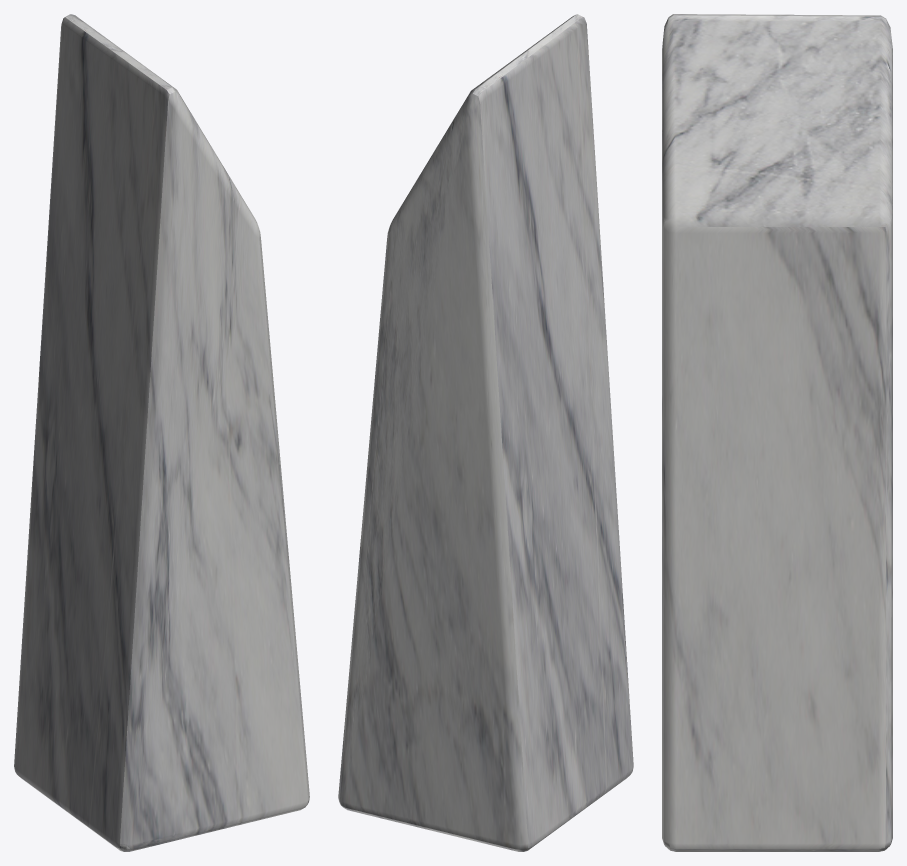
The model's file is podium2.fbx.
3 views of the same model, side by side, from view 1: azimuth 30°, elevation 25°; view 2: azimuth 150°, elevation 25°; view 3: azimuth 270°, elevation 25° (orthographic). The views are drawn at different scales.
Visible parts, largest first — view 1: pCube2; view 2: pCube2; view 3: pCube2.
Part boxes in pixels (left/top/right/bottom): pCube2: left=14, top=14, right=309, bottom=851; pCube2: left=338, top=14, right=633, bottom=851; pCube2: left=662, top=14, right=892, bottom=851.
Size of the model in its own units: 0.9905 by 3.69 by 1.
Materials: 1 (1 with a texture image).
